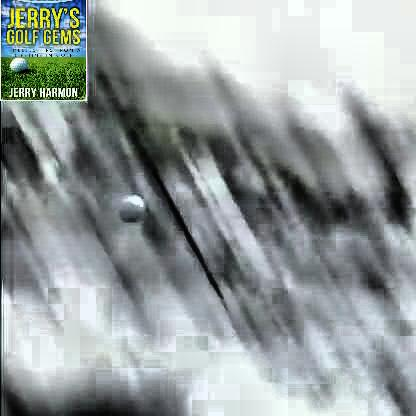golfball: (115, 190, 143, 220)
